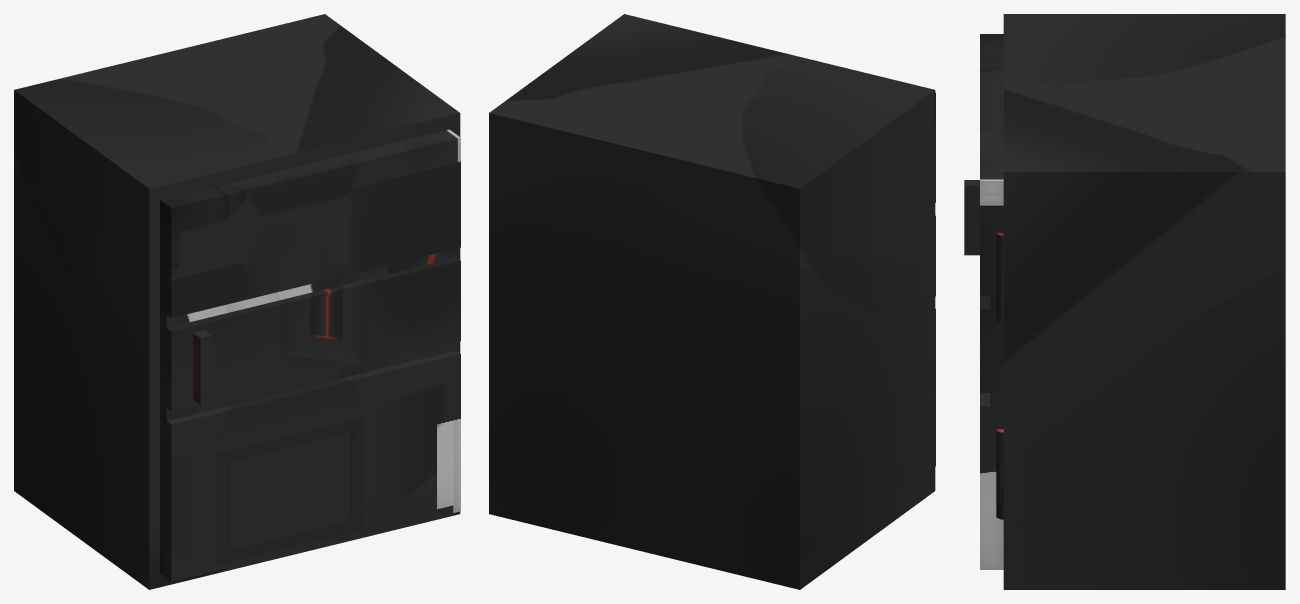
The model's file is Chest3.FBX.
3 renders of one model, left to right at view 1: azimuth 30°, elevation 25°; view 2: azimuth 150°, elevation 25°; view 3: azimuth 270°, elevation 25°, orthographic. The views are drawn at different scales.
Visible parts, largest first — view 1: chestdoor3, chestbox3; view 2: chestbox3; view 3: chestbox3, chestdoor3.
Boxes of the visible parts, left/top/right/bottom form: chestdoor3: left=160, top=129, right=460, bottom=581; chestbox3: left=14, top=14, right=460, bottom=589; chestbox3: left=489, top=14, right=935, bottom=589; chestbox3: left=1003, top=14, right=1285, bottom=589; chestdoor3: left=964, top=34, right=1003, bottom=569.
Size of the model in its own units: 19.21 by 23.68 by 16.5.
